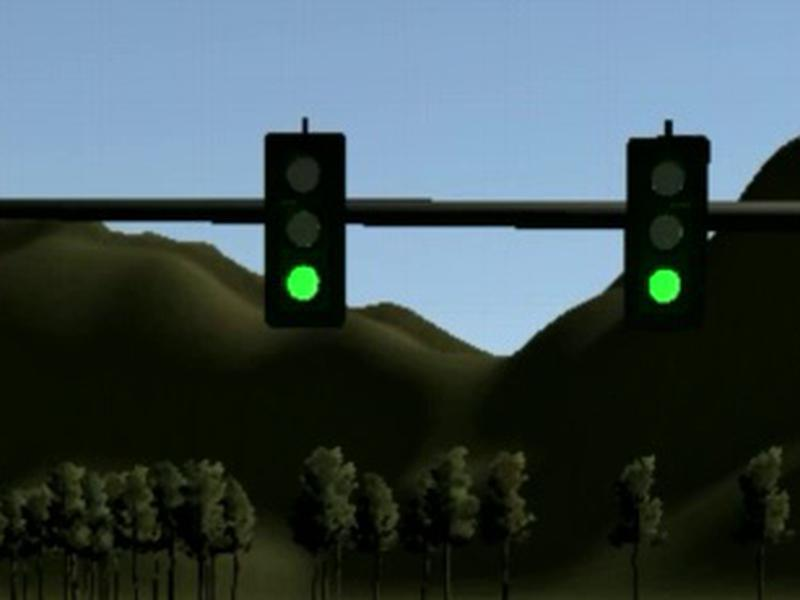Green: (625, 134, 712, 333), (262, 131, 347, 329)
